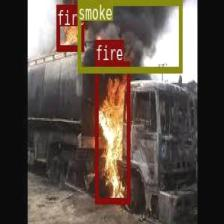fire: (95, 60, 130, 202), (56, 4, 83, 50)
smoke: (77, 0, 181, 72)
